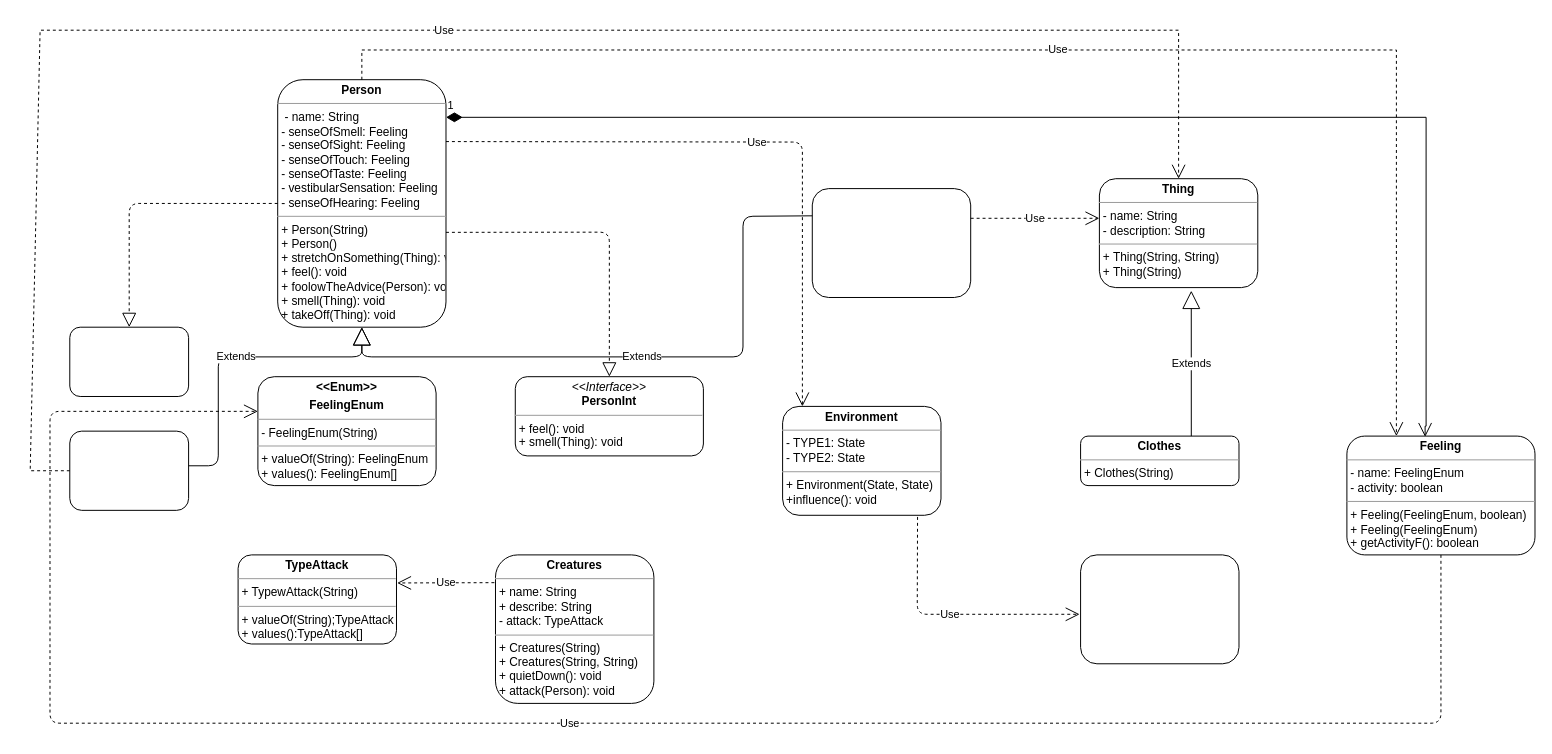
Some shapes in this 1552 by 754 pixel diagram are drawn without their labels. The box of each missing label's shape, as (x1, y1, x2, y2) in pixels:
<<Enum>> State - State(String) + values(): State[] + valueOf(String); State: (1080, 554, 1239, 664)
Dunno + Dunno() + itch(); void + decideToGoToBed(); void + rend(Thing): void: (811, 188, 971, 297)
Obstinate + Obstinate(String) + said(Person):void: (69, 430, 189, 510)
«interface» TakeClothes + takeOff(Thing): void + notTakeOff(): void: (69, 326, 189, 396)
